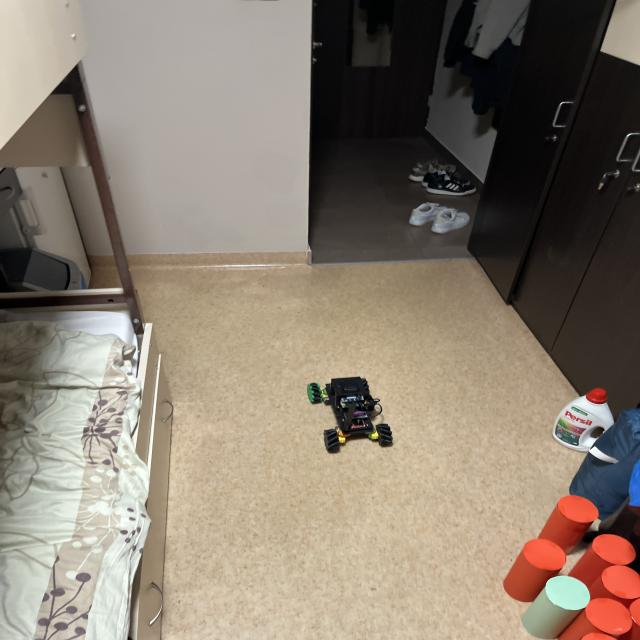robot: (307, 377, 393, 453)
